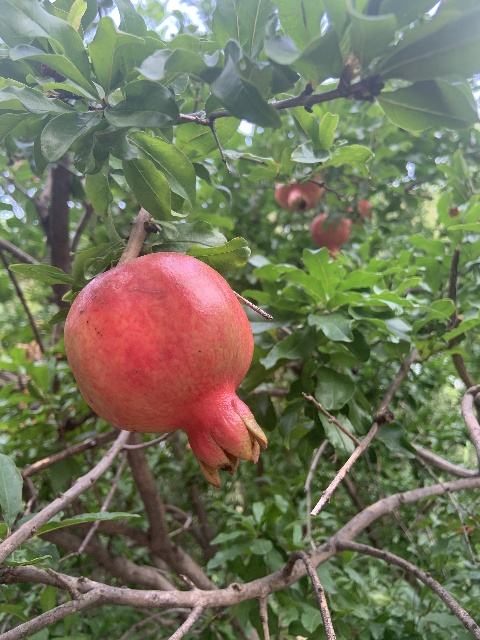ripe: (64, 250, 266, 486), (310, 212, 351, 259), (274, 179, 323, 212), (344, 198, 372, 227)
